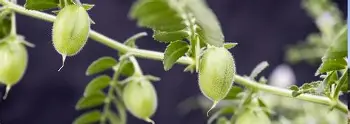crops: (0, 16, 341, 117)
